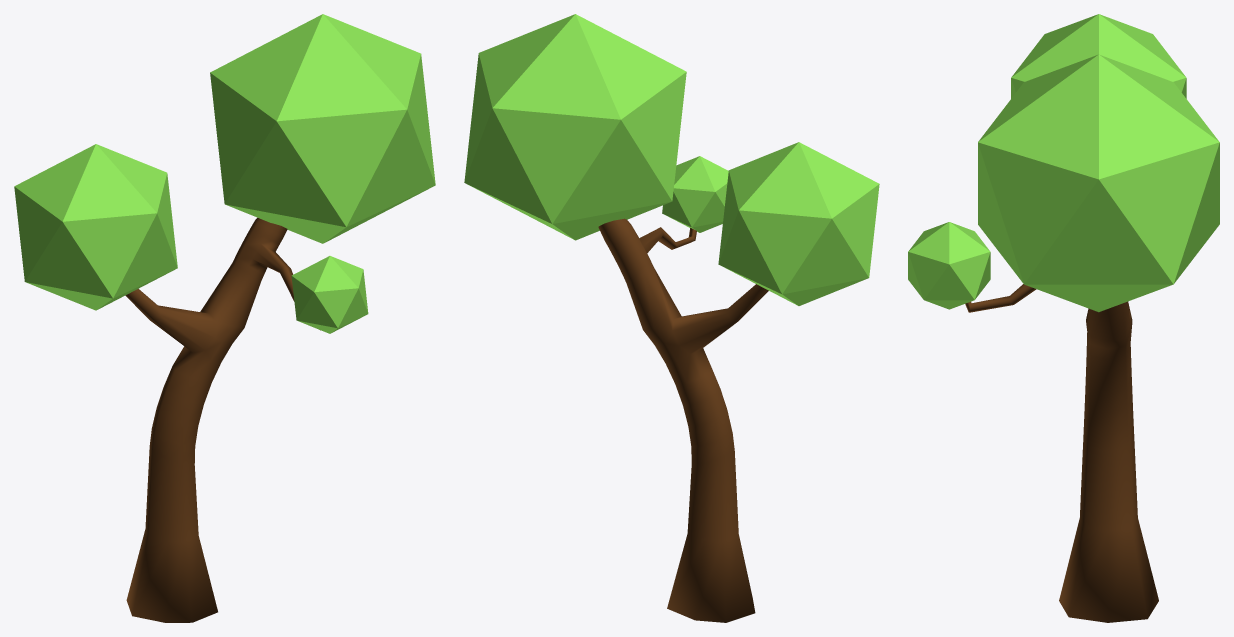
The model's file is agac1.fbx.
3 views of the same model, side by side, from view 1: azimuth 30°, elevation 25°; view 2: azimuth 150°, elevation 25°; view 3: azimuth 270°, elevation 25° (orthographic). The views are drawn at different scales.
Visible parts, largest first — view 1: Icosphere; view 2: Icosphere; view 3: Icosphere.
Boxes of the visible parts, <box> form: Icosphere: <box>14,14,435,622</box>; Icosphere: <box>464,14,879,622</box>; Icosphere: <box>908,14,1219,622</box>.
Size of the model in its own units: 386 by 521 by 234.
